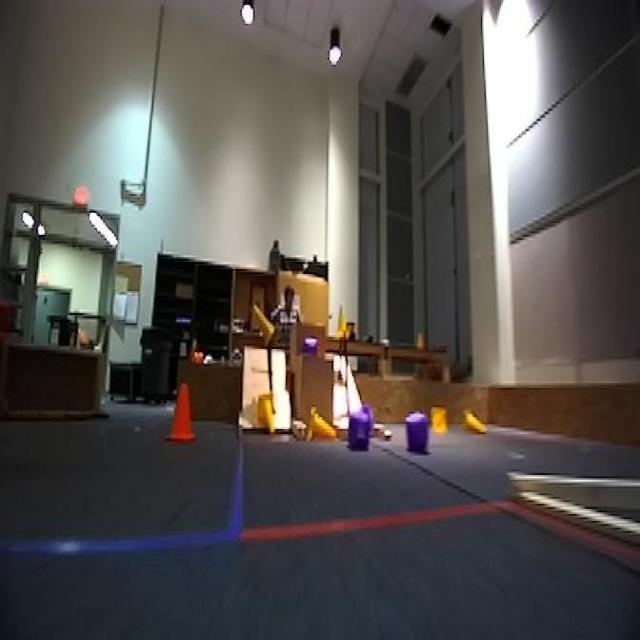frc_cone: (236, 290, 269, 348), (326, 295, 351, 342), (459, 410, 493, 441), (307, 408, 337, 442), (258, 390, 278, 437), (430, 400, 448, 436)
frc_cube: (350, 410, 372, 446), (406, 420, 426, 453), (302, 337, 320, 359)
